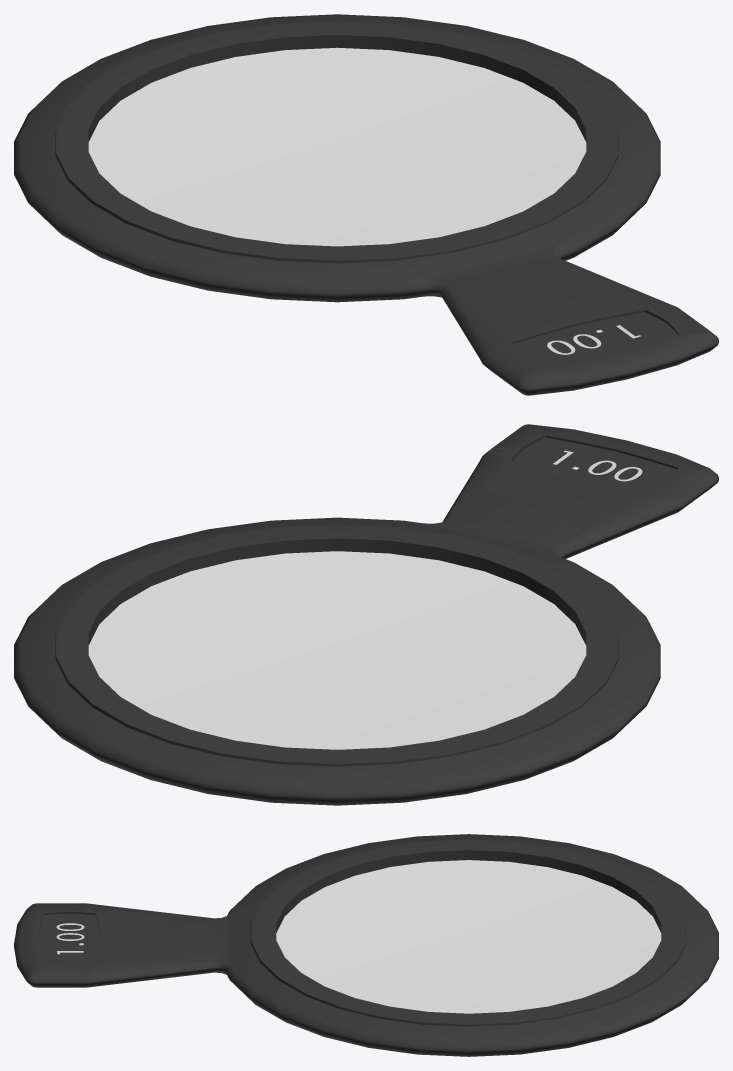
Rendered from ChaiPian_Hei_100.fbx.
3 views of the same model, one above another, from view 1: azimuth 30°, elevation 25°; view 2: azimuth 150°, elevation 25°; view 3: azimuth 270°, elevation 25° (orthographic). The views are drawn at different scales.
Parts seen in each view (by area): view 1: ChaiPian_Hei_100_Mesh, ChaiPian_Hei_100_Trans_Mesh; view 2: ChaiPian_Hei_100_Mesh, ChaiPian_Hei_100_Trans_Mesh; view 3: ChaiPian_Hei_100_Mesh, ChaiPian_Hei_100_Trans_Mesh.
Boxes of the visible parts, x1=… form: ChaiPian_Hei_100_Mesh: x1=14, y1=14, x2=718, y2=395; ChaiPian_Hei_100_Trans_Mesh: x1=88, y1=47, x2=586, y2=246; ChaiPian_Hei_100_Mesh: x1=14, y1=424, x2=718, y2=805; ChaiPian_Hei_100_Trans_Mesh: x1=88, y1=551, x2=586, y2=749; ChaiPian_Hei_100_Mesh: x1=14, y1=834, x2=718, y2=1056; ChaiPian_Hei_100_Trans_Mesh: x1=276, y1=860, x2=661, y2=1013.
Bounding box in the file's own units: 3.2 × 0.1908 × 4.48.
